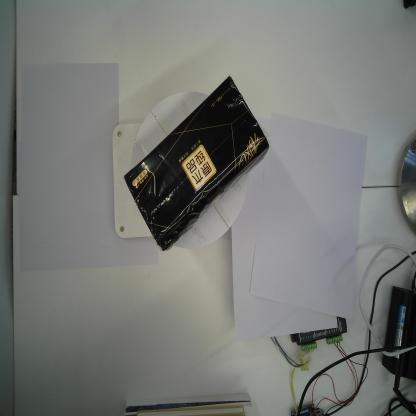Tissue: (122, 72, 271, 254)
